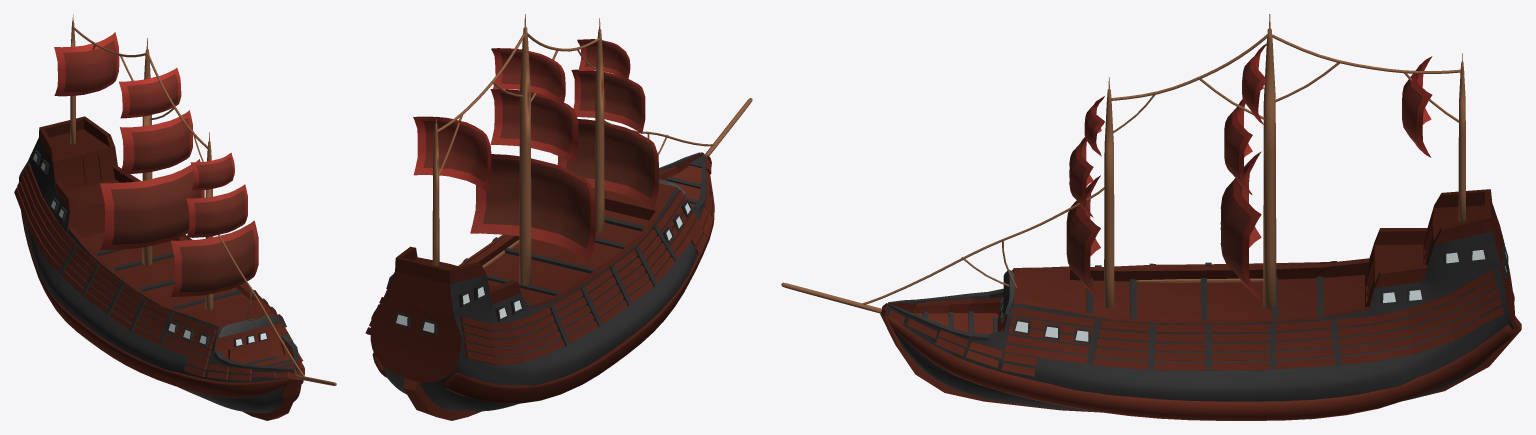
The model's file is ship_red.fbx.
3 views of the same model, side by side, from view 1: azimuth 30°, elevation 25°; view 2: azimuth 150°, elevation 25°; view 3: azimuth 270°, elevation 25° (orthographic). The views are drawn at different scales.
Parts seen in each view (by area): view 1: ship.002, sails.001, ship.001, ship.004, ship, ship.003, ship.006; view 2: ship.002, sails.001, ship.001, ship.004, ship, ship.006; view 3: ship.002, ship.001, sails.001, ship.004, ship, ship.006.
Boxes of the visible parts, bbox=[...] form: ship.002: bbox=[14, 116, 304, 420]; sails.001: bbox=[54, 32, 258, 296]; ship.001: bbox=[19, 137, 301, 412]; ship.004: bbox=[70, 14, 336, 385]; ship: bbox=[72, 27, 304, 376]; ship.003: bbox=[217, 315, 281, 338]; ship.006: bbox=[33, 153, 266, 345]; ship.002: bbox=[365, 152, 714, 420]; sails.001: bbox=[413, 39, 658, 262]; ship.001: bbox=[376, 152, 707, 411]; ship.004: bbox=[432, 14, 752, 285]; ship: bbox=[437, 33, 714, 175]; ship.006: bbox=[396, 203, 690, 332]; ship.002: bbox=[880, 189, 1521, 420]; ship.001: bbox=[885, 231, 1513, 412]; sails.001: bbox=[1066, 44, 1432, 300]; ship.004: bbox=[781, 14, 1465, 313]; ship: bbox=[862, 34, 1461, 304]; ship.006: bbox=[1001, 250, 1506, 341].
Bounding box in the file's own units: 298 × 1044 × 617.
Materials: 1 (1 with a texture image).
